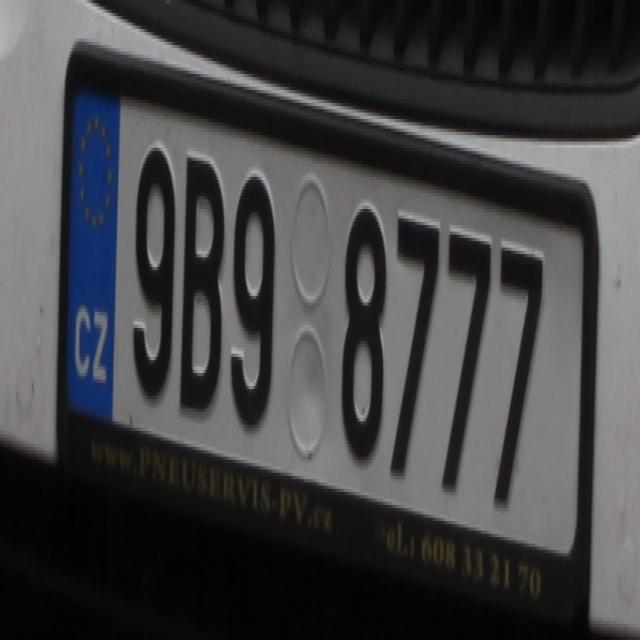7: (492, 222, 551, 524), (440, 209, 490, 508), (389, 202, 438, 498)
8: (340, 199, 387, 466)
9: (128, 138, 177, 415), (229, 164, 277, 431)
B: (175, 138, 223, 418)
